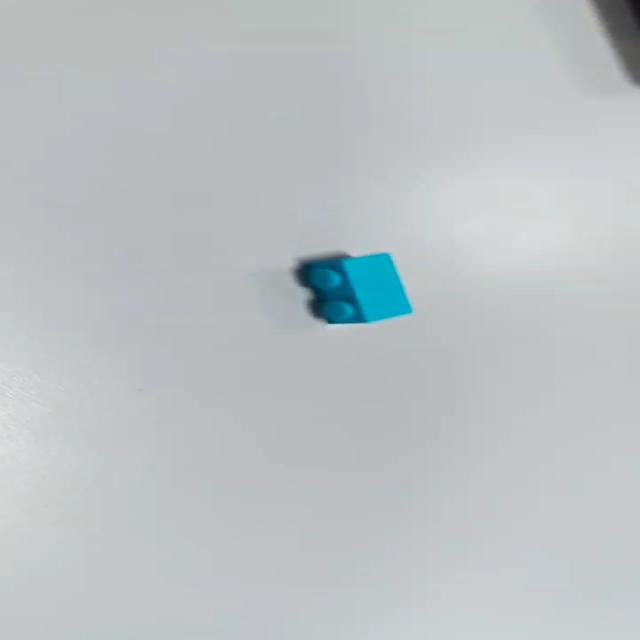C2x1x1: (294, 250, 414, 325)
